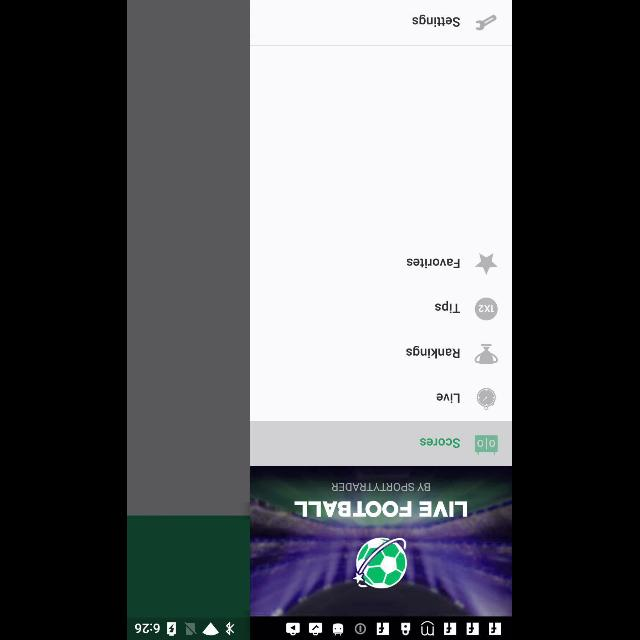icon: (476, 253, 498, 275), (478, 388, 497, 410)
image: (252, 466, 512, 616), (476, 298, 498, 320), (476, 344, 498, 364), (476, 436, 498, 454), (476, 15, 498, 31)
panel: (252, 0, 512, 616)
text: (296, 500, 468, 518), (332, 482, 432, 492), (407, 345, 461, 359), (413, 15, 461, 28), (408, 258, 460, 268), (421, 438, 462, 448), (435, 300, 461, 314), (437, 392, 461, 403)
uppertaskbar: (128, 617, 512, 639)
